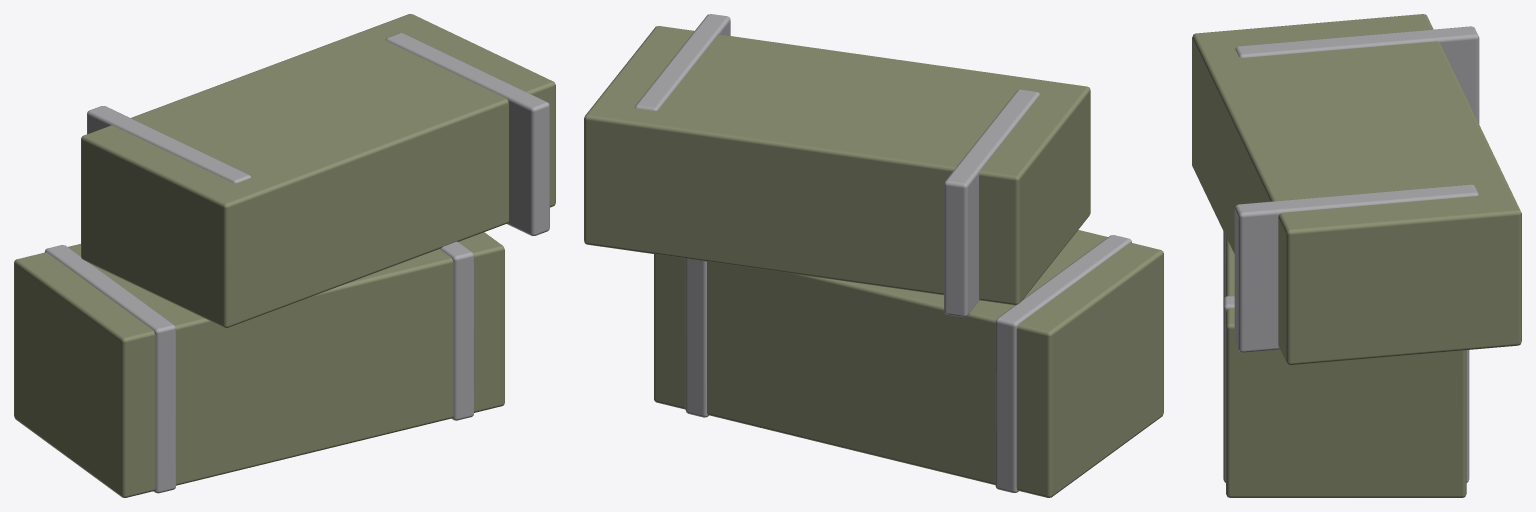
File: SM_AmmoCrate.fbx
The picture shows the model from 3 angles, left to right: view 1: azimuth 30°, elevation 25°; view 2: azimuth 150°, elevation 25°; view 3: azimuth 270°, elevation 25°; orthographic projection. The views are drawn at different scales.
Parts seen in each view (by area): view 1: SM_AmmoCrate; view 2: SM_AmmoCrate; view 3: SM_AmmoCrate.
Boxes of the visible parts, x1,y1,x2,y2 form: SM_AmmoCrate: (14, 14, 555, 497); SM_AmmoCrate: (584, 14, 1163, 497); SM_AmmoCrate: (1192, 14, 1521, 497).
Size of the model in its own units: 1.08 by 0.65 by 0.6167.
